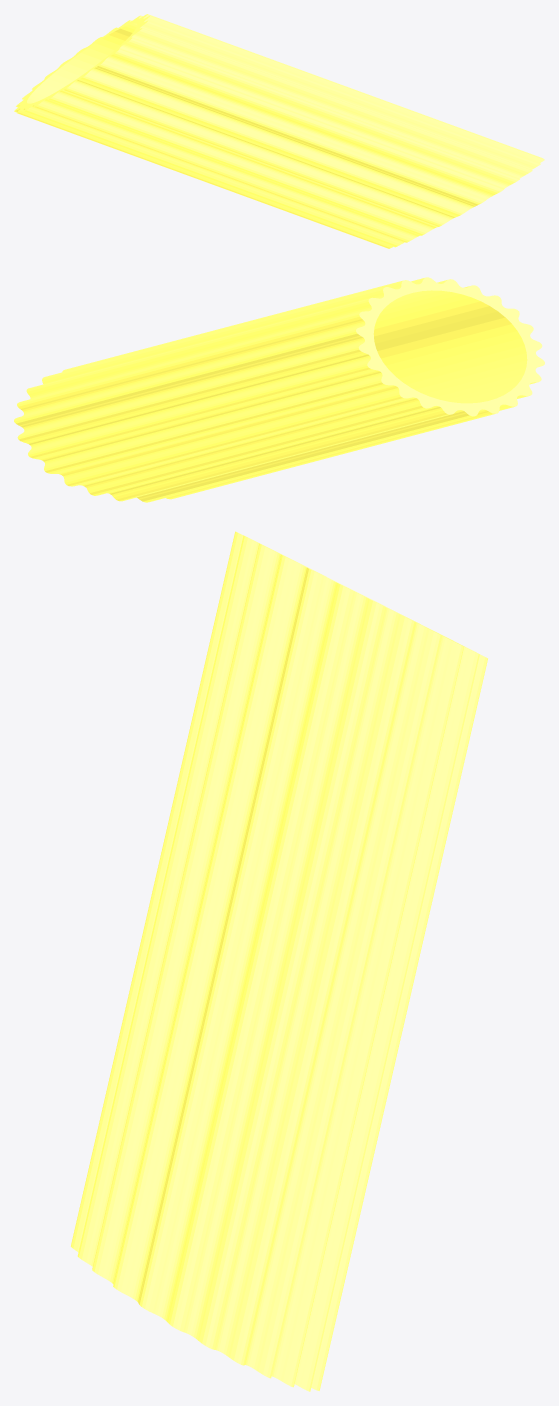
File: Penne.gltf
3 renders of one model, top to bottom at view 1: azimuth 30°, elevation 25°; view 2: azimuth 150°, elevation 25°; view 3: azimuth 270°, elevation 25°, orthographic. The views are drawn at different scales.
Visible parts, largest first — view 1: Penne; view 2: Penne; view 3: Penne.
Part boxes in pixels (bbox=[...]): Penne: bbox=[14, 14, 544, 248]; Penne: bbox=[14, 277, 544, 502]; Penne: bbox=[71, 531, 487, 1391].
Bounding box in the file's own units: 3.54 × 1.83 × 1.29.
